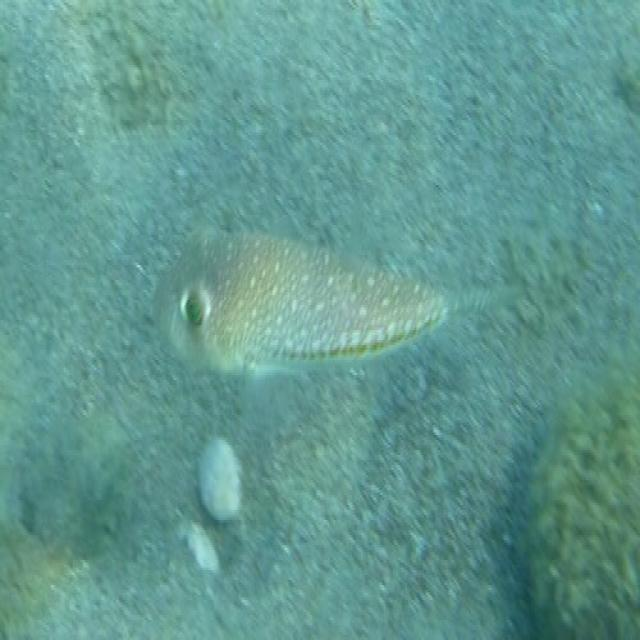Balik: (157, 230, 449, 369)
